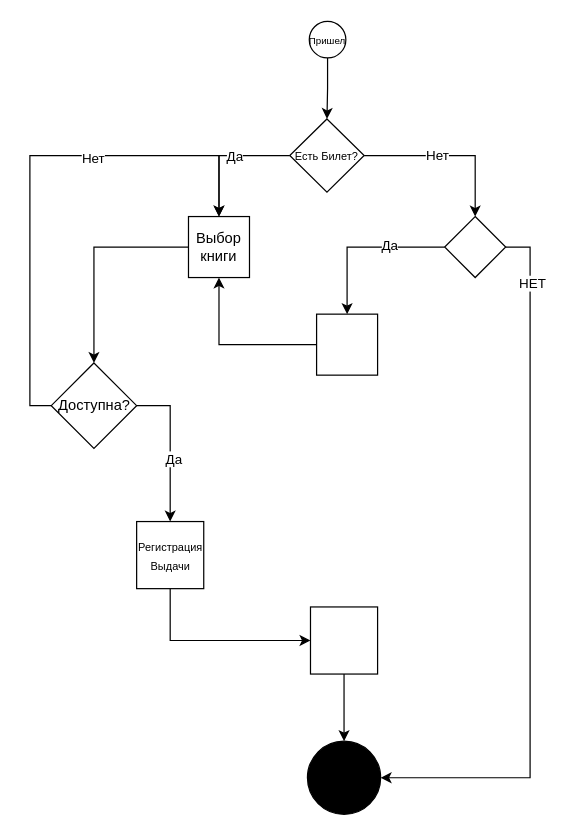
Some shapes in this 566 by 836 pixel diagram are drawn without their labels. The shapes that lost their labels are listed below. From the top down, each one's centre as x and y in pixels, then its label:
(474,246): Оформить?
(346,344): Регистрация Оформления
(343,640): Читатель получает книгу
